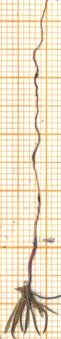flower: (0, 281, 60, 339)
root: (28, 0, 51, 239)
stem: (24, 239, 47, 285)
